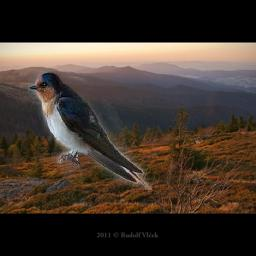Swallow: (28, 72, 152, 191)
